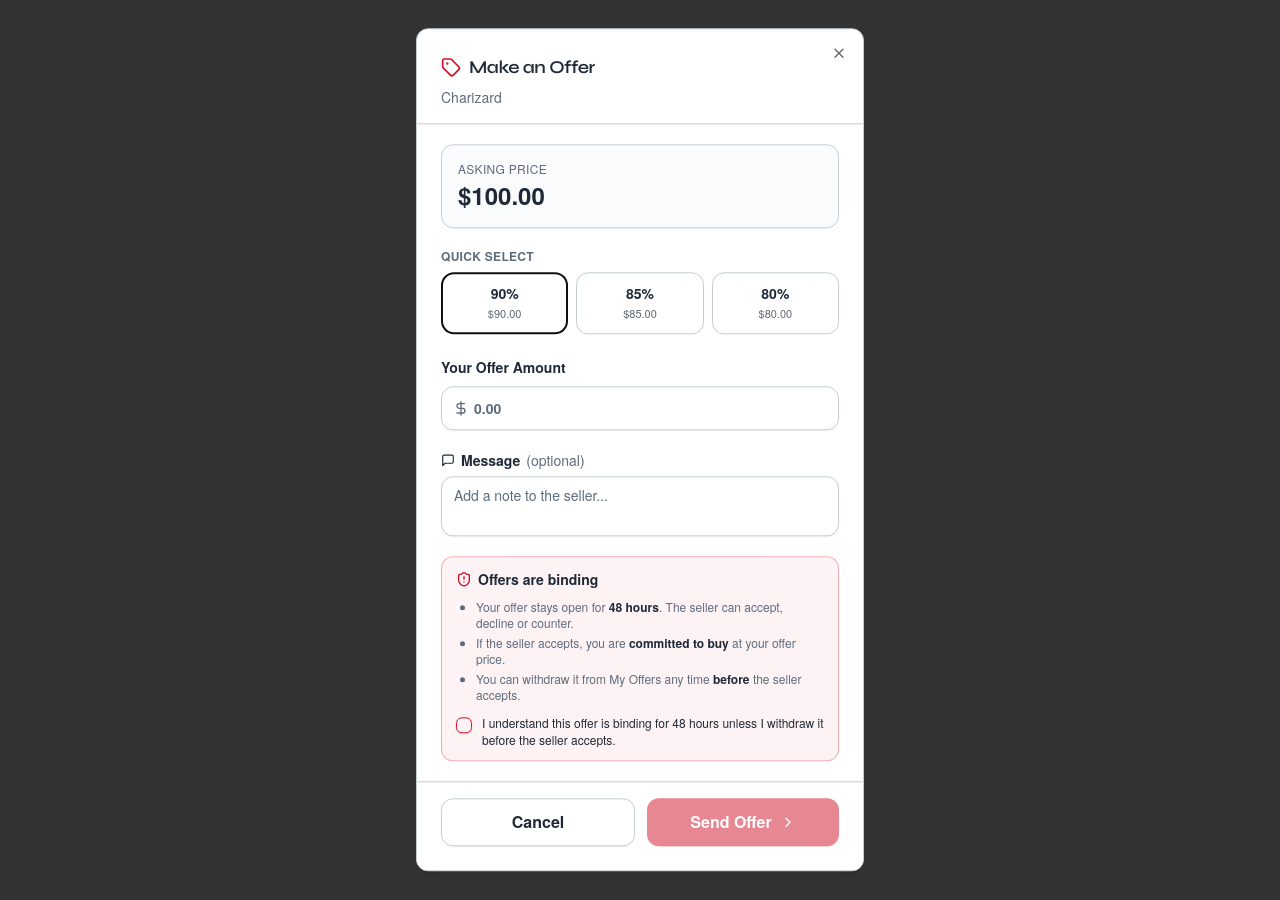
Test: MakeOfferModal — binding offer › confirms the offer is binding, with its expiry, and how to withdraw
Type "90" into the number field labelled "Your Offer Amount" at (640, 409), box [441, 387, 839, 431]
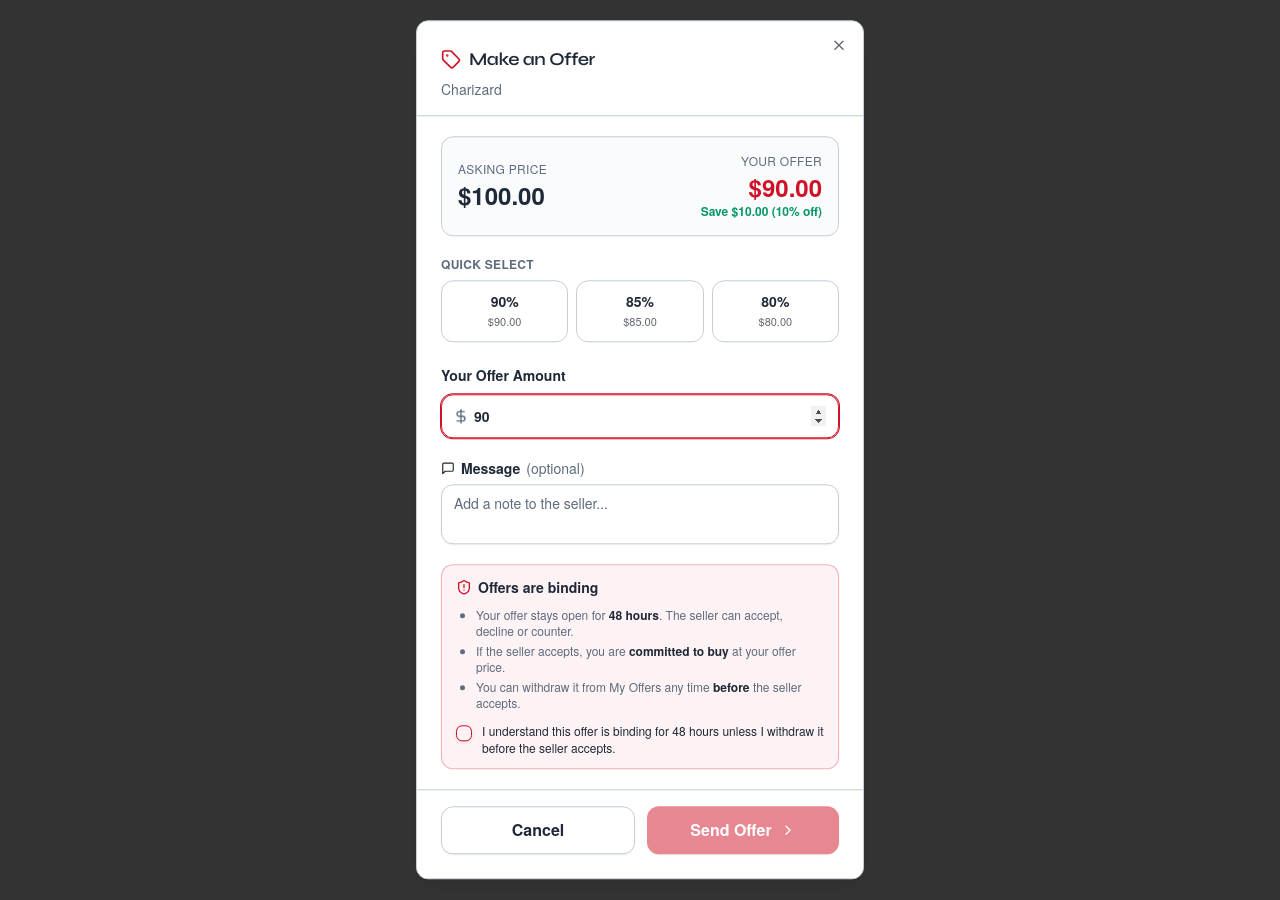
Click the checkbox named "binding" at (464, 734), box [456, 726, 472, 742]
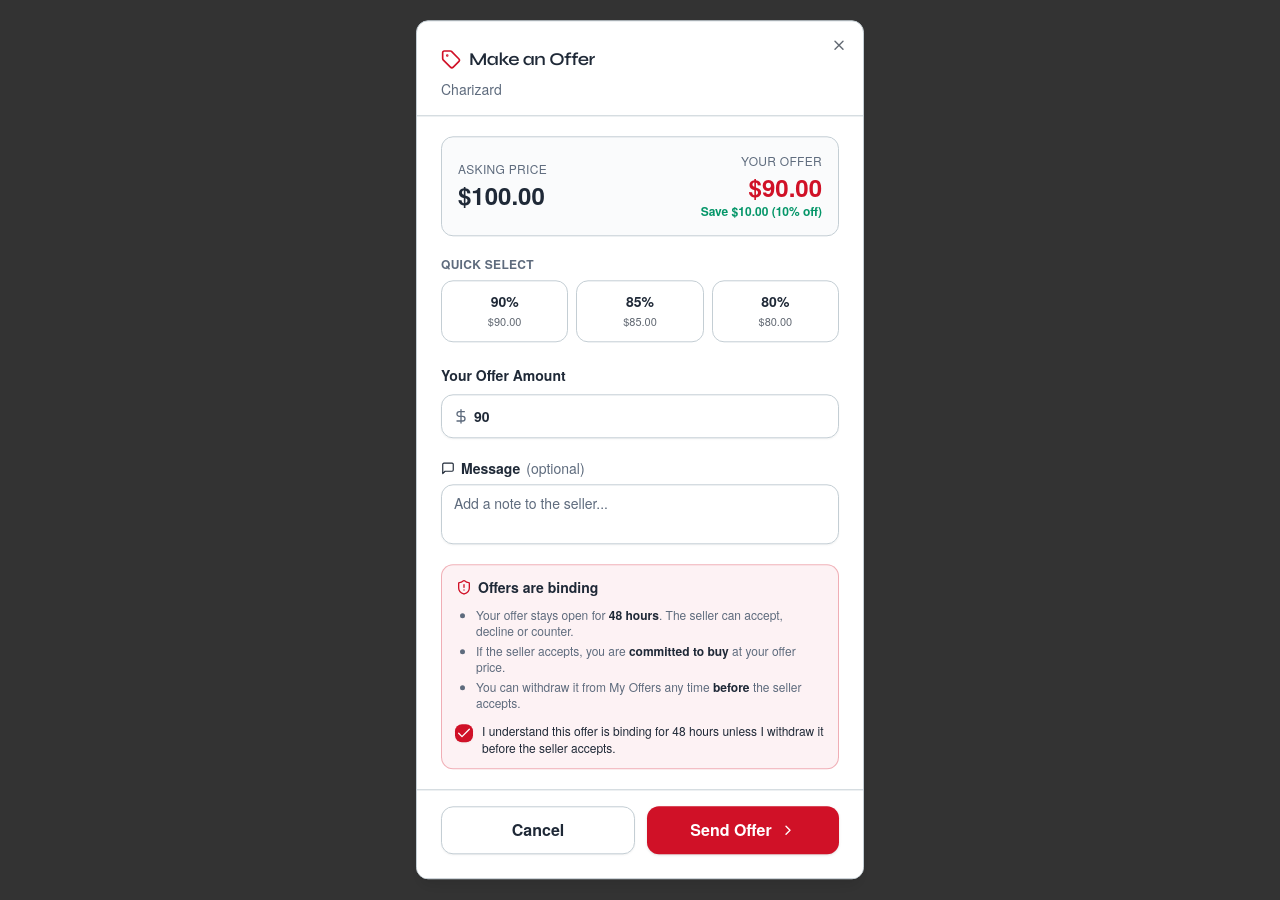
Click the button "Send Offer" at (743, 831), box [647, 807, 839, 855]
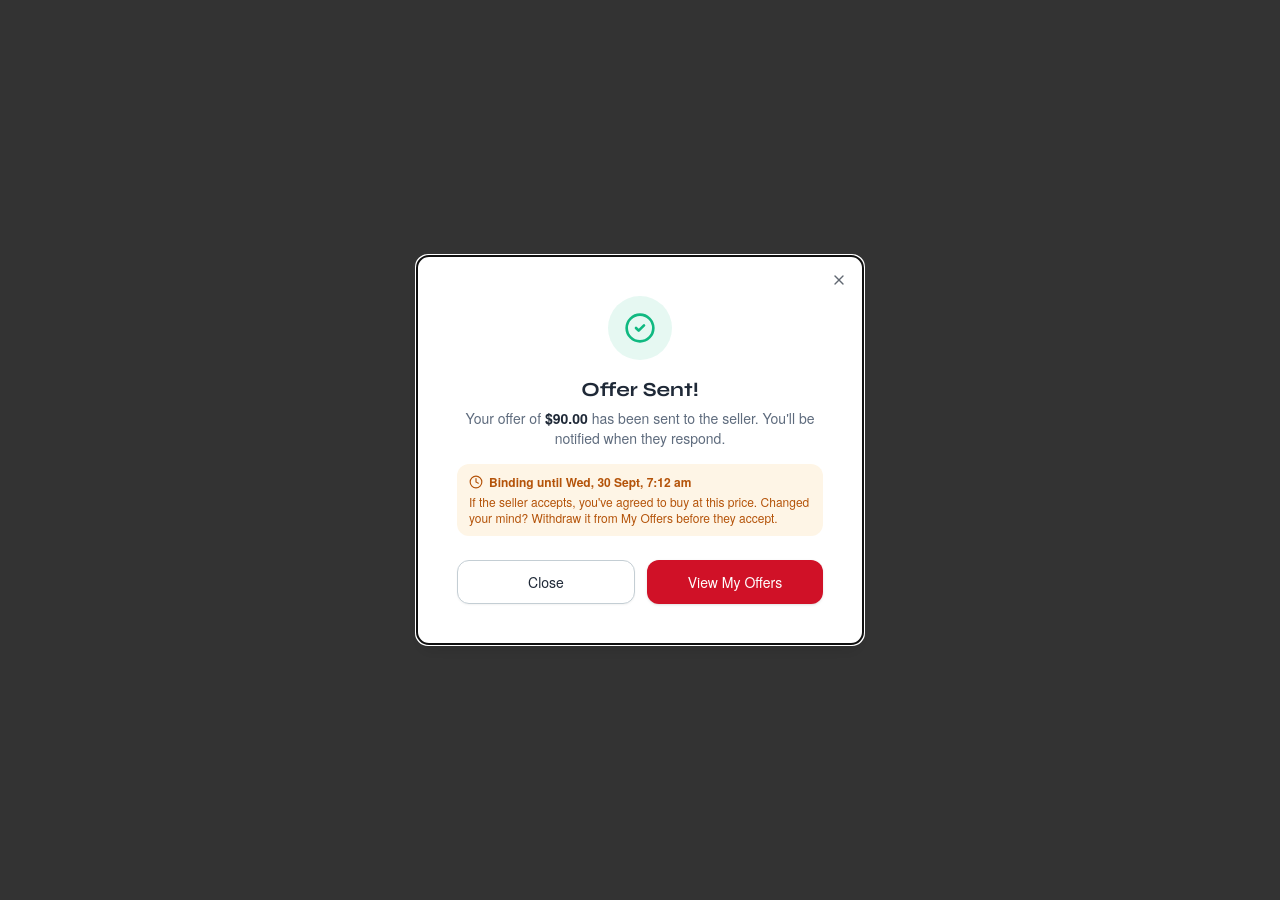
Expected: the heading "Offer Sent!" is shown, [581, 377, 699, 402]
Expected: the text "Binding until Wed, 30 Sept, 7:12 am" is shown, [469, 473, 691, 491]
Expected: the text "withdraw it from my offers before they accept" is shown, [469, 493, 809, 526]
